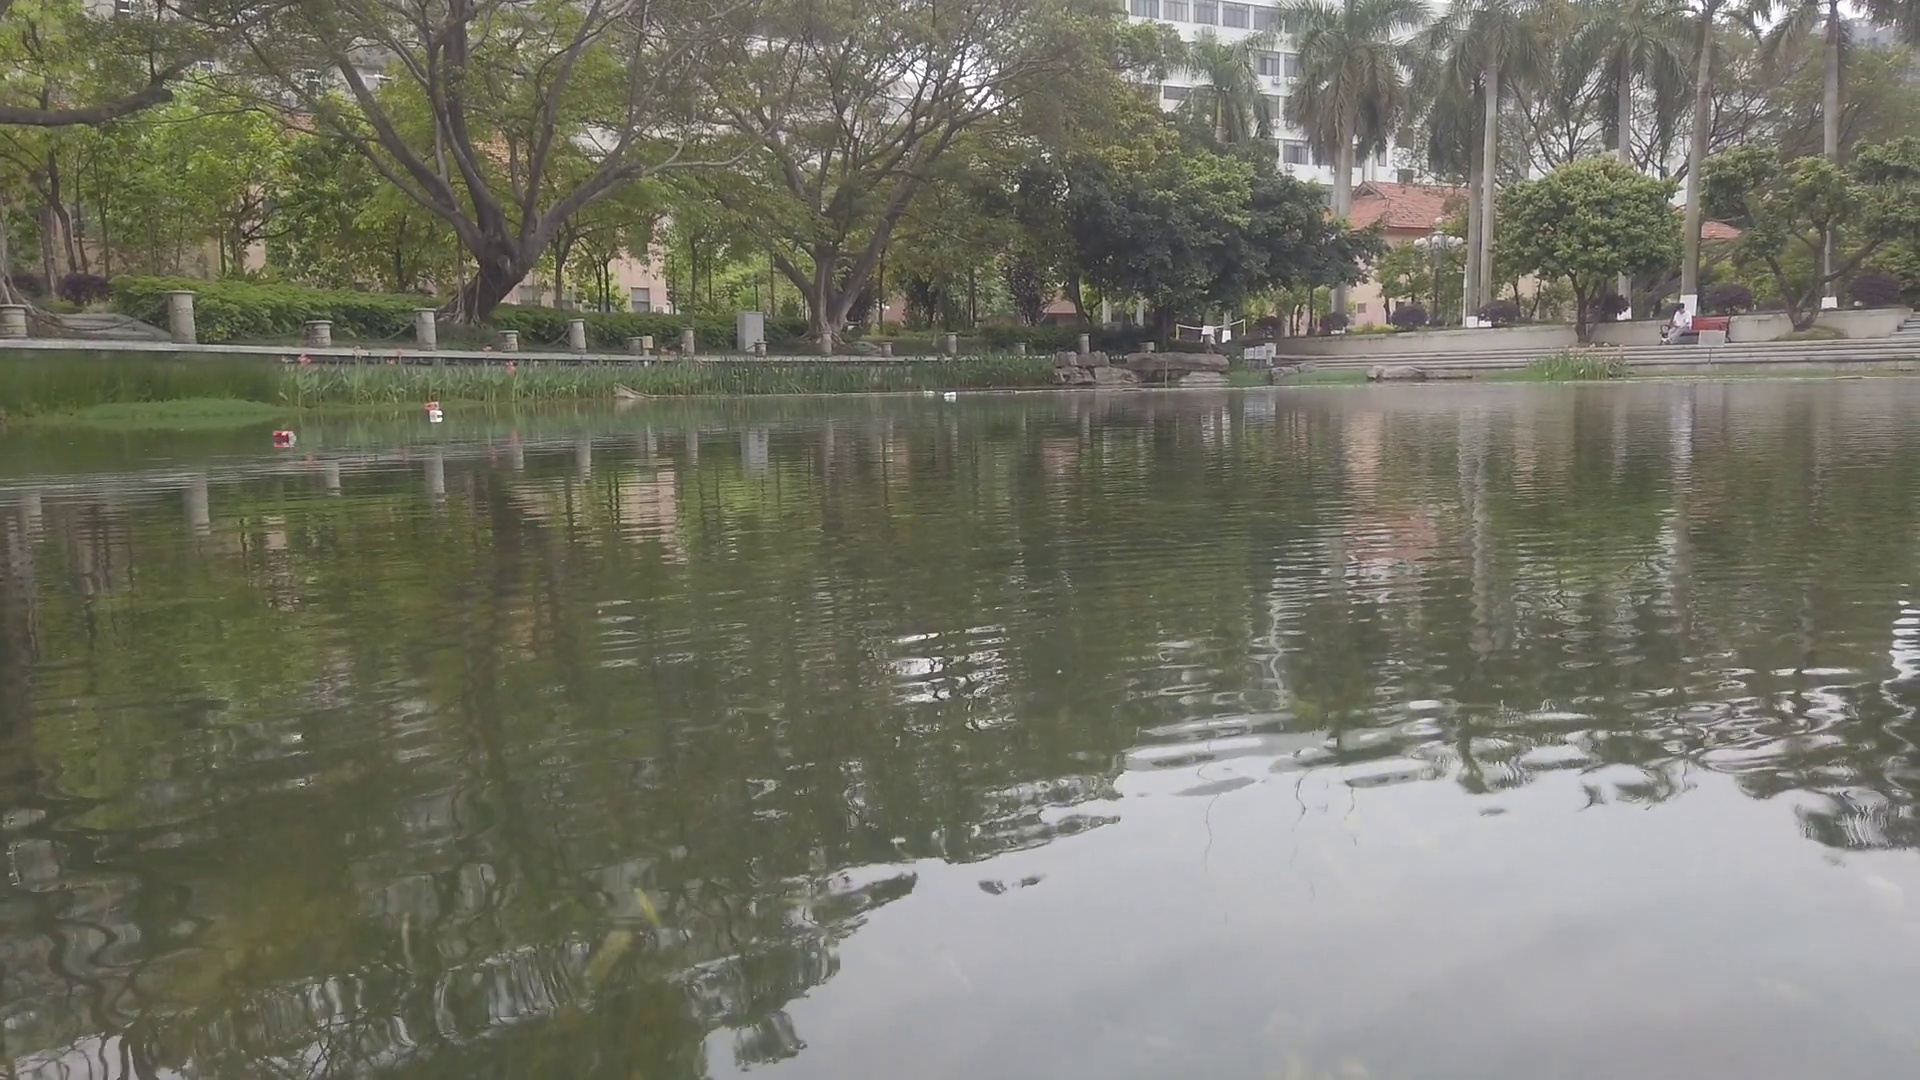bottle: (273, 429, 294, 440), (944, 392, 957, 400), (923, 390, 936, 396), (426, 402, 439, 407)
carton: (429, 409, 444, 419)
